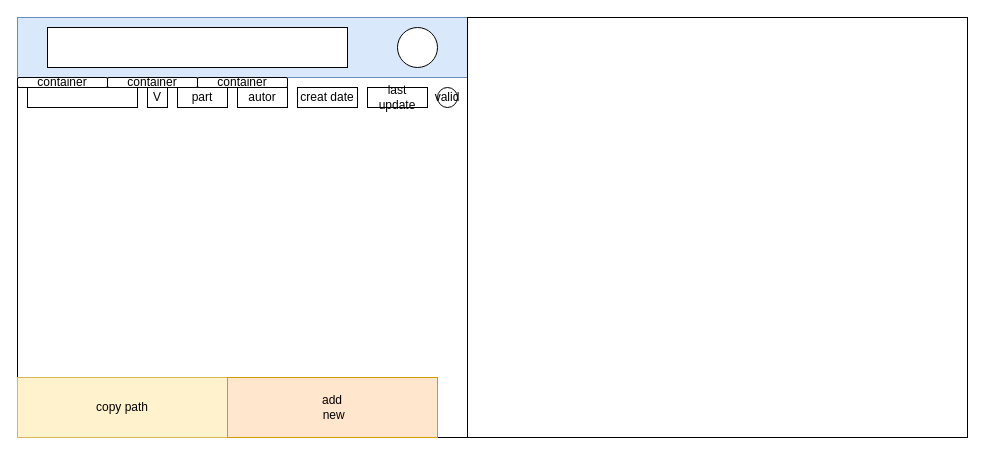
The diagram is 985 pixels wide and 455 high, and some of its shapes have lost their labels. The shapes that lost their labels are listed below. From the top down, each one's centre as x and y in pixels, then its label:
pixel 197 47: devices selected
pixel 417 47: admin
pixel 82 97: name
pixel 717 227: visualisation
